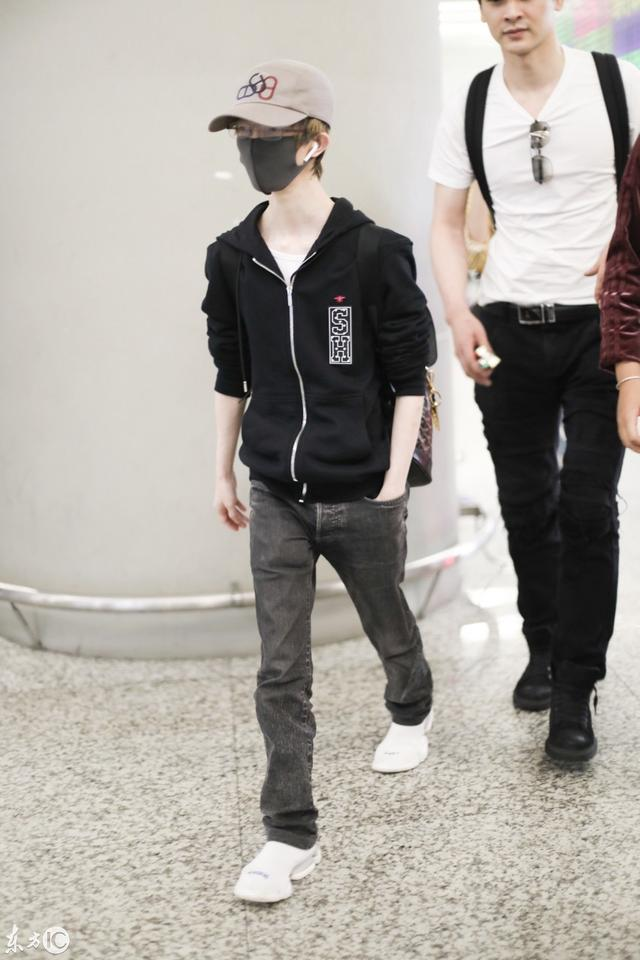mask: (231, 118, 318, 203)
